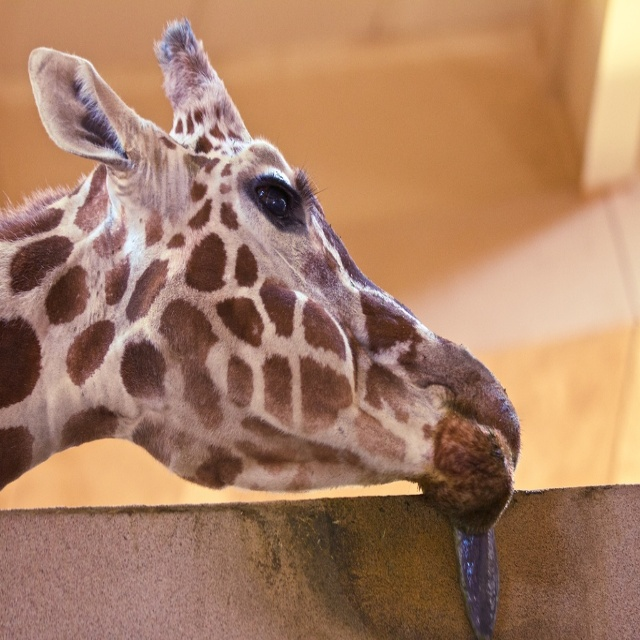Giraffe: (31, 10, 520, 574)
